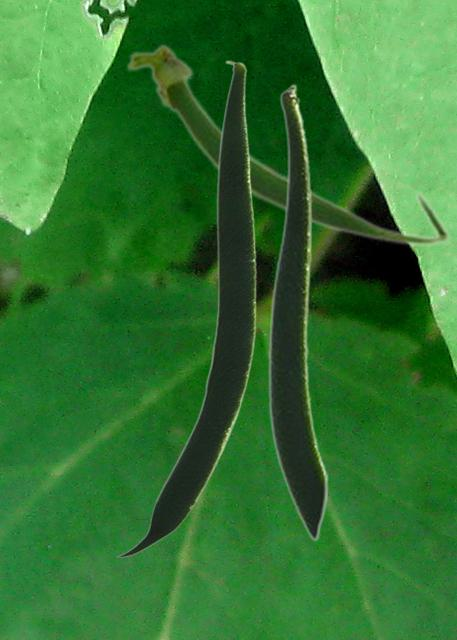french_bean: (116, 60, 255, 557), (124, 41, 451, 247), (267, 83, 328, 541)
